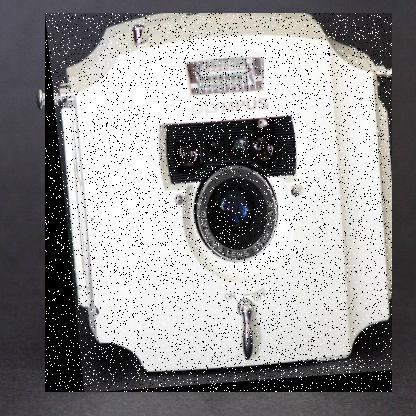Camera: (46, 14, 394, 394)
